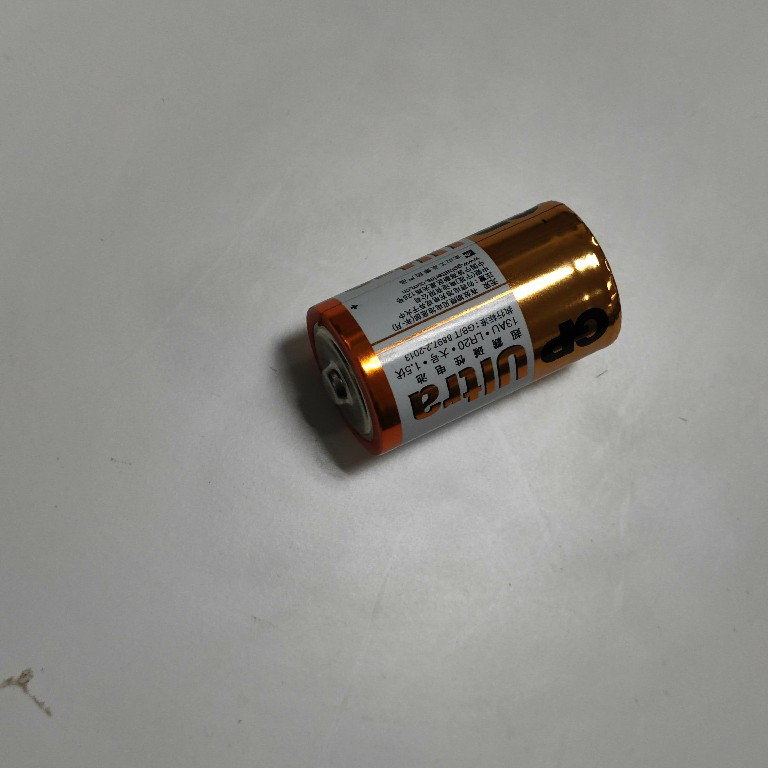charge: (297, 197, 624, 459)
